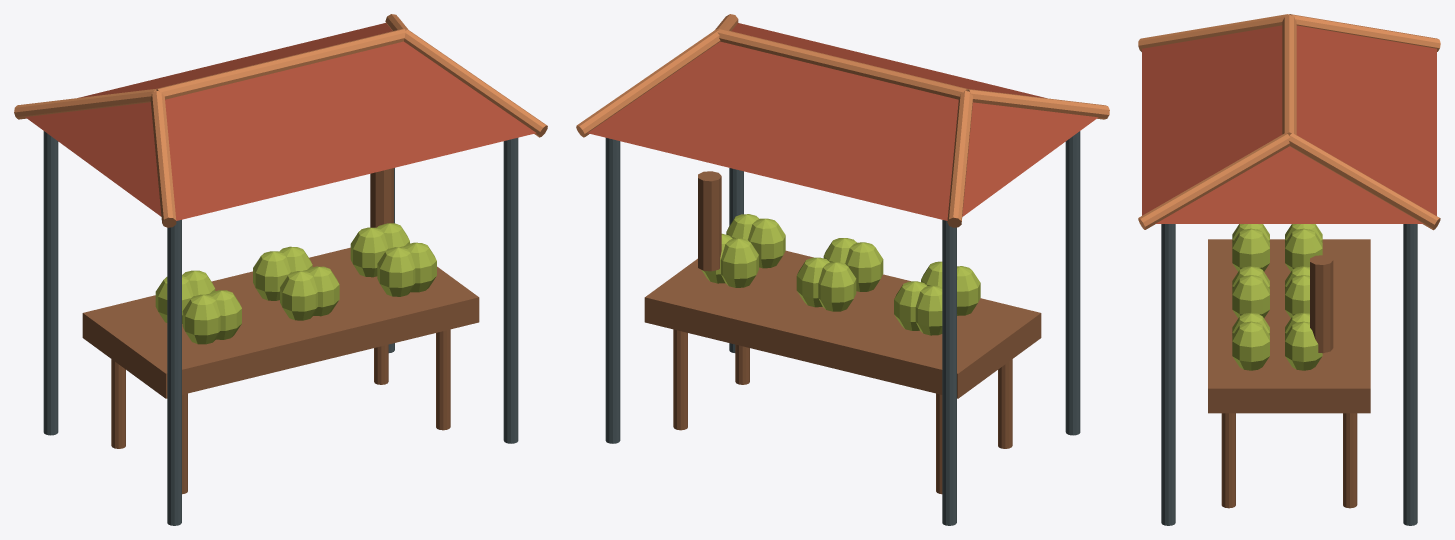
Rendered from 054_tender_coconut_stand.glb.
The picture shows the model from 3 angles, left to right: view 1: azimuth 30°, elevation 25°; view 2: azimuth 150°, elevation 25°; view 3: azimuth 270°, elevation 25°; orthographic projection. The views are drawn at different scales.
Visible parts, largest first — view 1: Tender coconut stand; view 2: Tender coconut stand; view 3: Tender coconut stand.
Boxes of the visible parts, left/top/right/bottom form: Tender coconut stand: left=14, top=14, right=547, bottom=525; Tender coconut stand: left=576, top=14, right=1109, bottom=525; Tender coconut stand: left=1138, top=14, right=1440, bottom=525.
Bounding box in the file's own units: 2.73 × 2.56 × 1.9.
